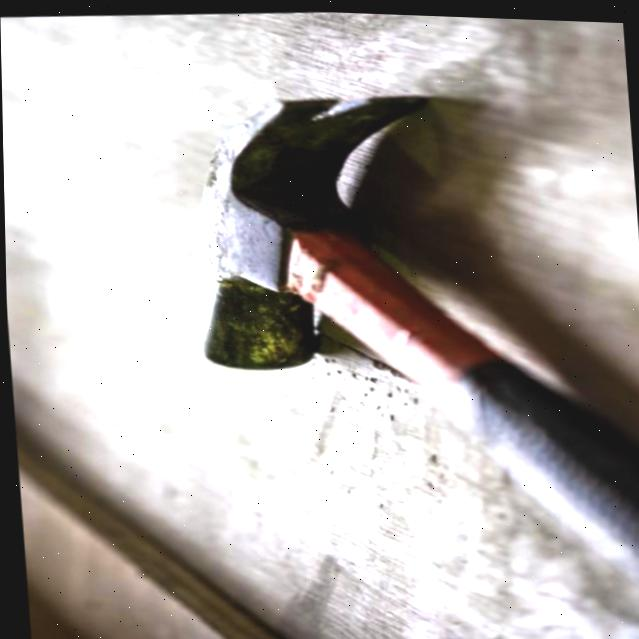hammer: (170, 58, 639, 639)
